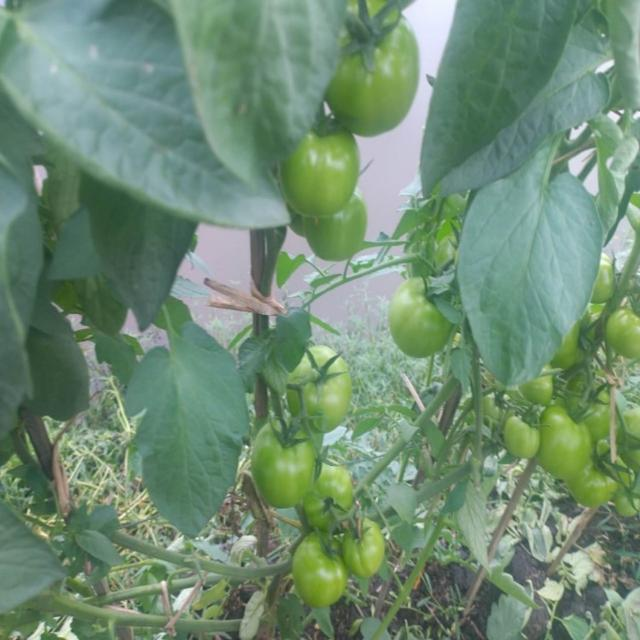tomato: (329, 9, 422, 132), (280, 130, 356, 214), (392, 280, 457, 359), (255, 423, 315, 506), (285, 352, 349, 428), (537, 407, 590, 479), (293, 531, 346, 602), (307, 202, 367, 262), (567, 376, 615, 436), (573, 447, 621, 499), (554, 310, 595, 369), (307, 472, 350, 523), (347, 518, 383, 574), (605, 306, 640, 359), (618, 407, 640, 470), (595, 258, 625, 304), (510, 415, 539, 460), (483, 393, 511, 428), (523, 374, 557, 402), (618, 480, 640, 519)
